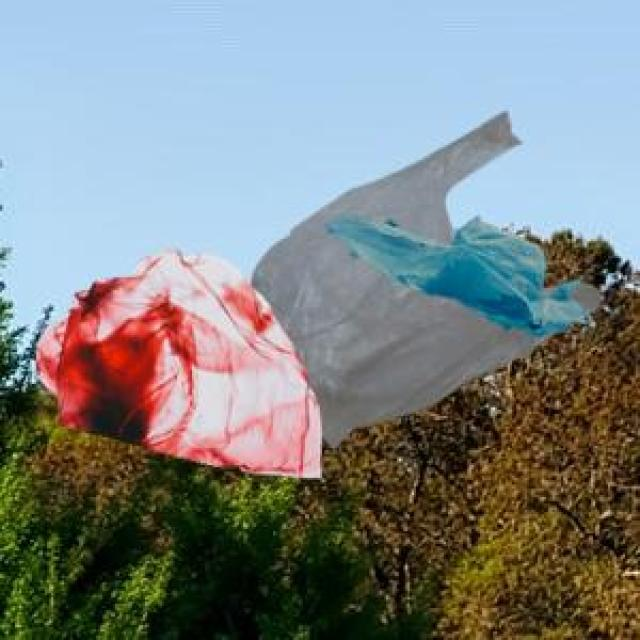plastic: (20, 95, 605, 513)
